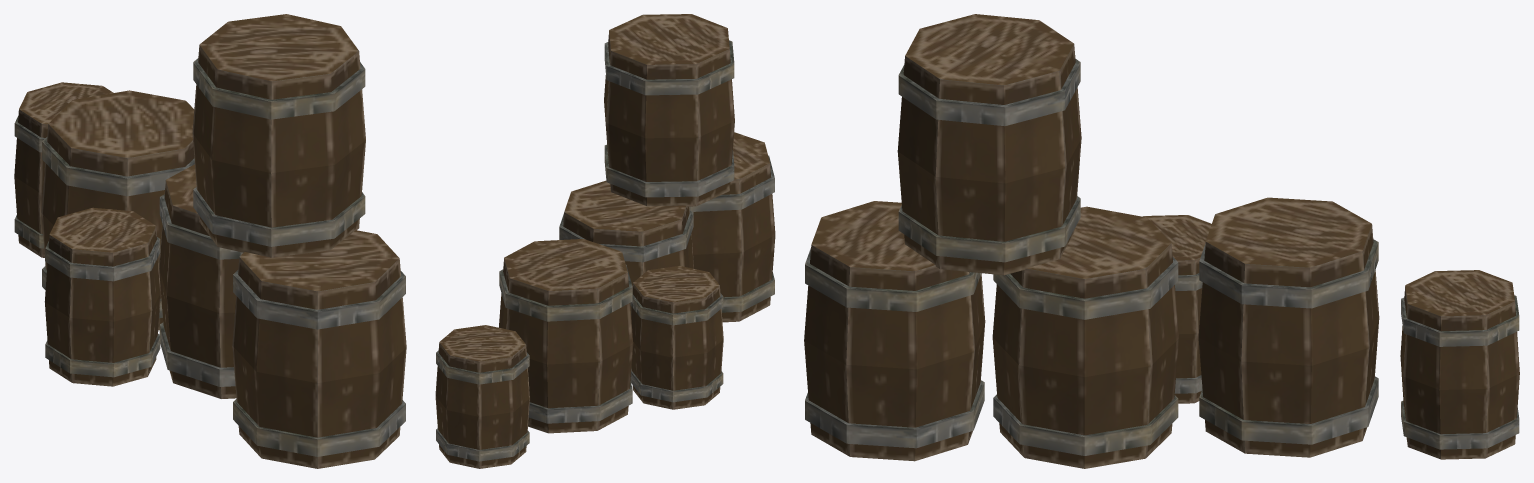
The model's file is barrels_001.obj.
3 renders of one model, left to right at view 1: azimuth 30°, elevation 25°; view 2: azimuth 150°, elevation 25°; view 3: azimuth 270°, elevation 25°, orthographic. The views are drawn at different scales.
Visible parts, largest first — view 1: barrels_001; view 2: barrels_001; view 3: barrels_001.
Boxes of the visible parts, x1,y1,x2,y2 form: barrels_001: (14,14,406,468); barrels_001: (435,14,775,468); barrels_001: (804,14,1519,468).
Bounding box in the file's own units: 2.65 × 4 × 6.83.
